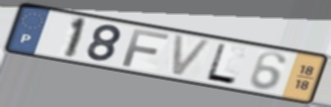1: (61, 16, 88, 60)
6: (247, 50, 288, 92)
8: (84, 23, 122, 63)
F: (120, 27, 172, 69)
L: (203, 42, 239, 87)
V: (169, 33, 215, 79)
